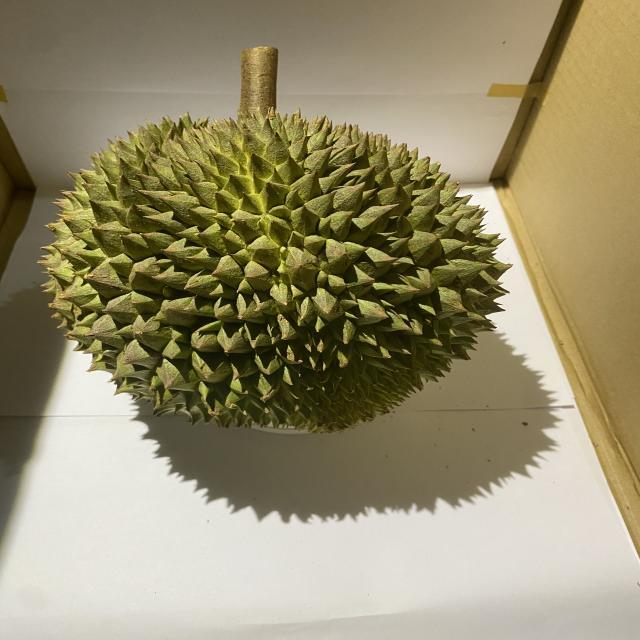immature: (32, 110, 516, 434)
